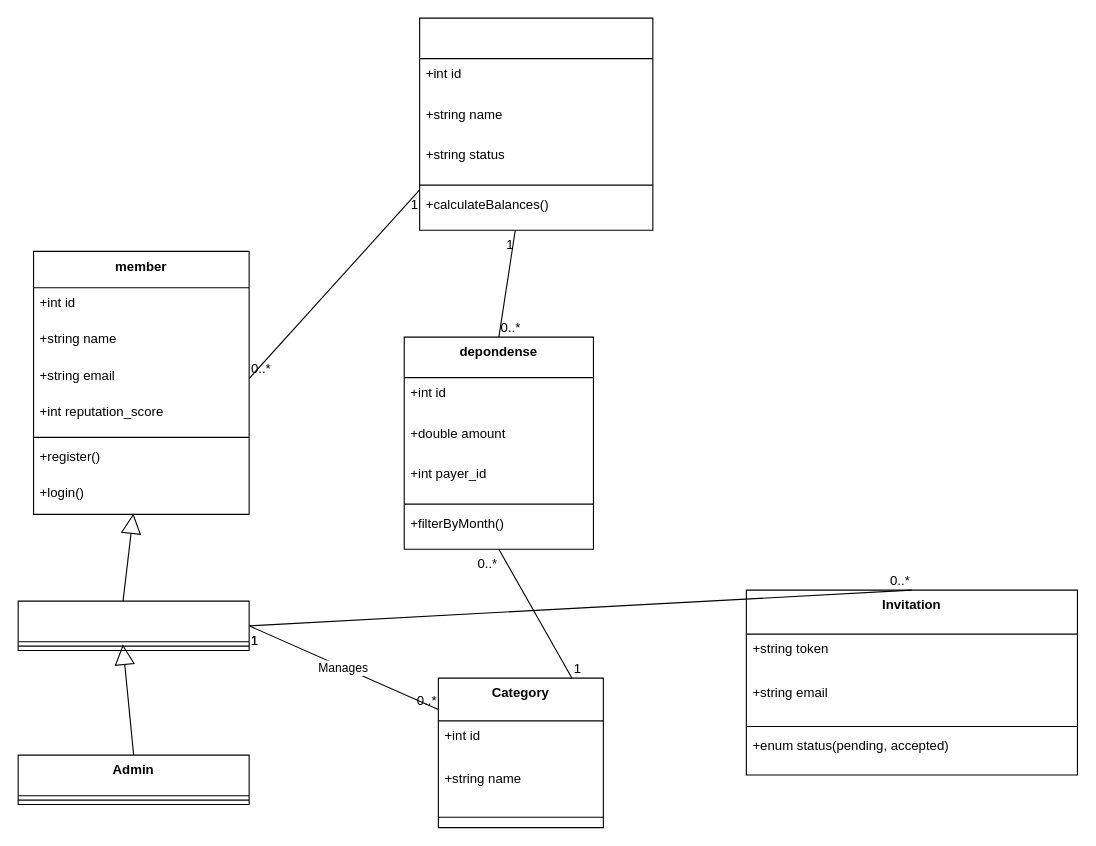
The diagram is 1096 pixels wide and 846 high, and some of its shapes have lost their labels. Here are the shapes that lost their labels. From the top down, the box of each, then its label:
(419, 17, 653, 230): Colocation
(17, 600, 249, 651): owner
